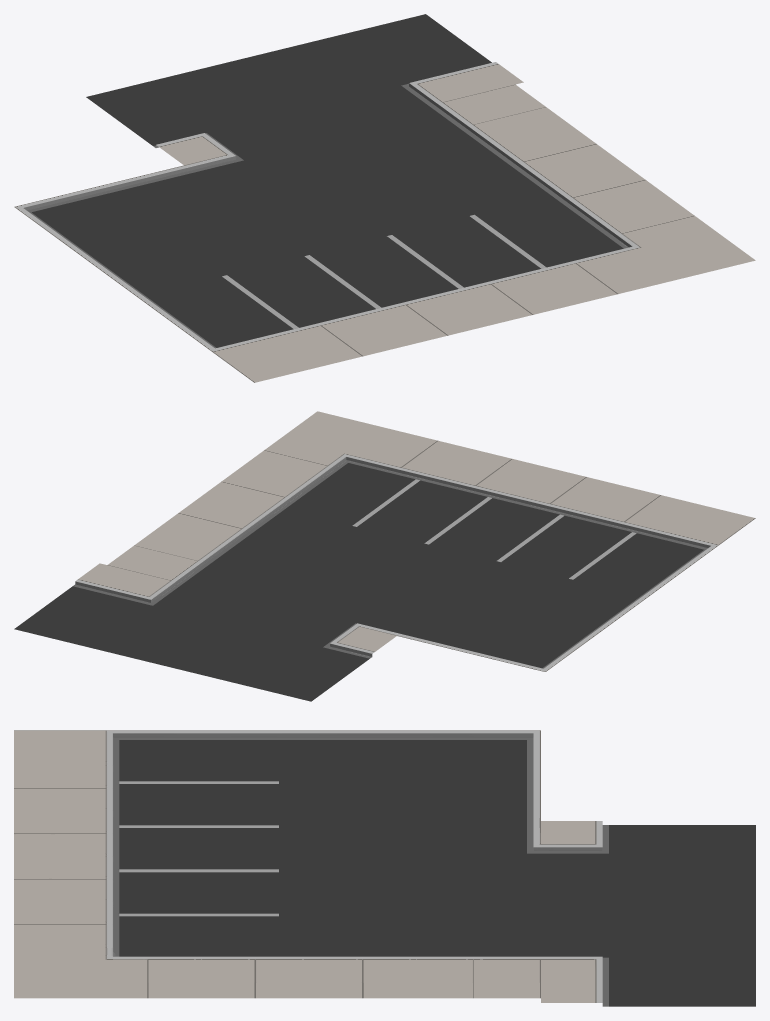
File: SA_Bld_Mall_Carpark_01.gltf
3 views of the same model, one above another, from view 1: azimuth 30°, elevation 25°; view 2: azimuth 150°, elevation 25°; view 3: azimuth 270°, elevation 25° (orthographic). The views are drawn at different scales.
Parts seen in each view (by area): view 1: SA_Bld_Mall_Carpark_01; view 2: SA_Bld_Mall_Carpark_01; view 3: SA_Bld_Mall_Carpark_01.
Part boxes in pixels (x1,y1,x2,y2): SA_Bld_Mall_Carpark_01: [14, 14, 755, 382]; SA_Bld_Mall_Carpark_01: [14, 411, 755, 701]; SA_Bld_Mall_Carpark_01: [14, 730, 755, 1006].
Size of the model in its own units: 30 by 0.1948 by 34.5.
Materials: 1 (1 with a texture image).
